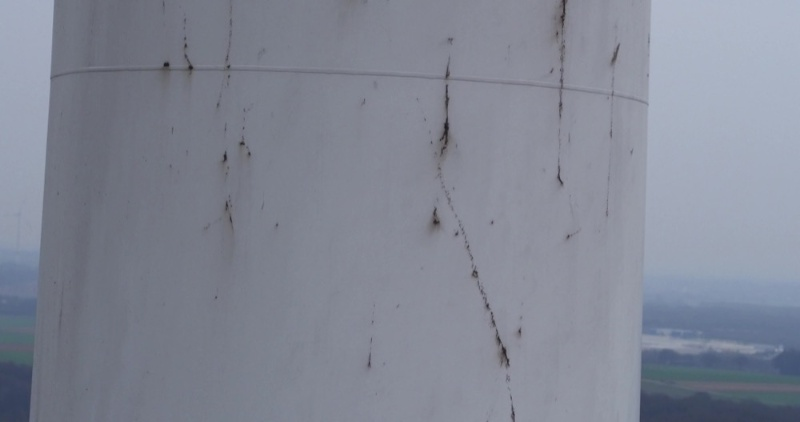weldseam: (42, 54, 655, 111)
